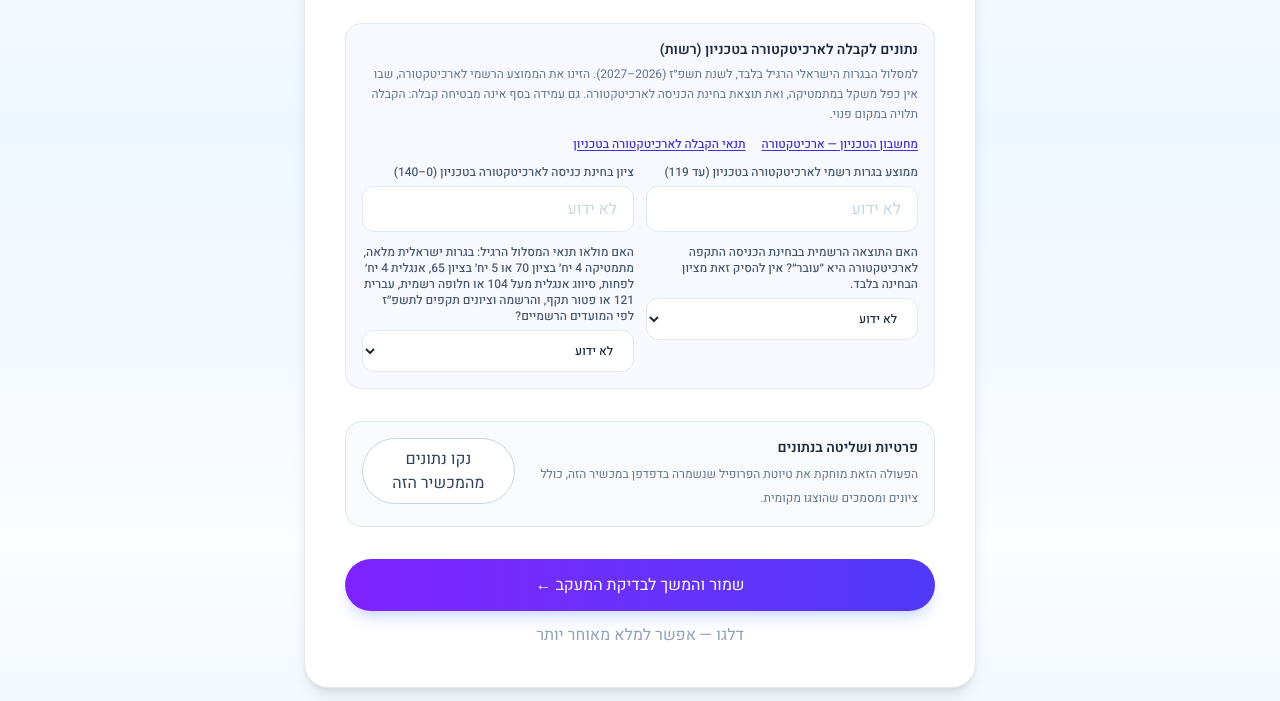
AcademicProfileForm › requires a structured Bagrut record before continuing an admission-alert setup
This screenshot has width=1280, height=701.
(page scrolled)
Click the button "שמור והמשך לבדיקת המעקב ←": click(640, 584) [345, 558, 935, 610]
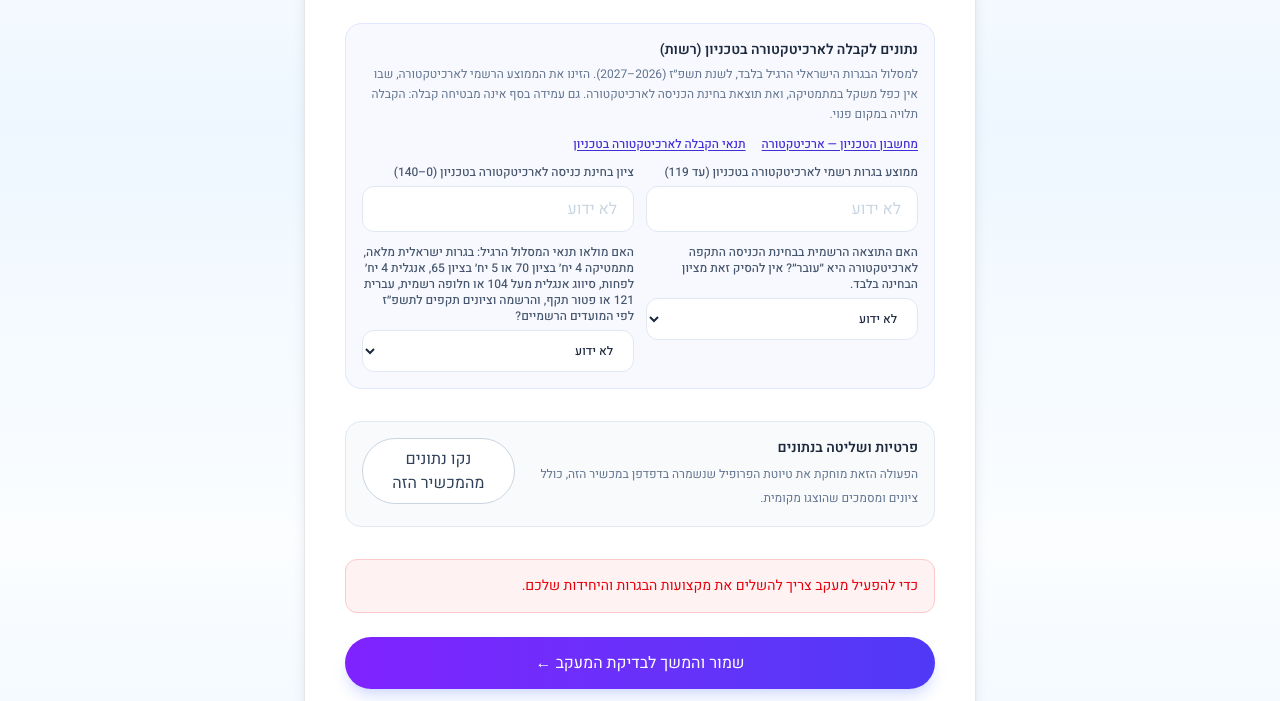
Now the text "כדי להפעיל מעקב צריך להשלים את מקצועות הבגרות והיחידות שלכם." is shown, box [345, 558, 935, 612]
